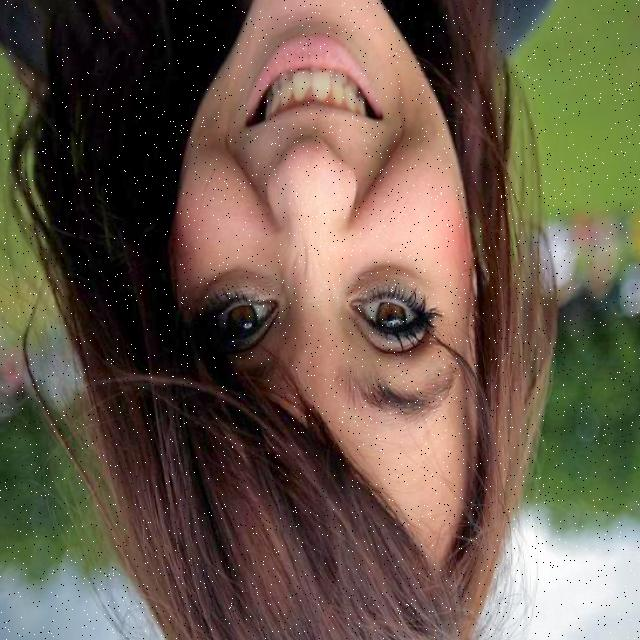puffy_eyes: (190, 266, 278, 319), (349, 266, 428, 303)
